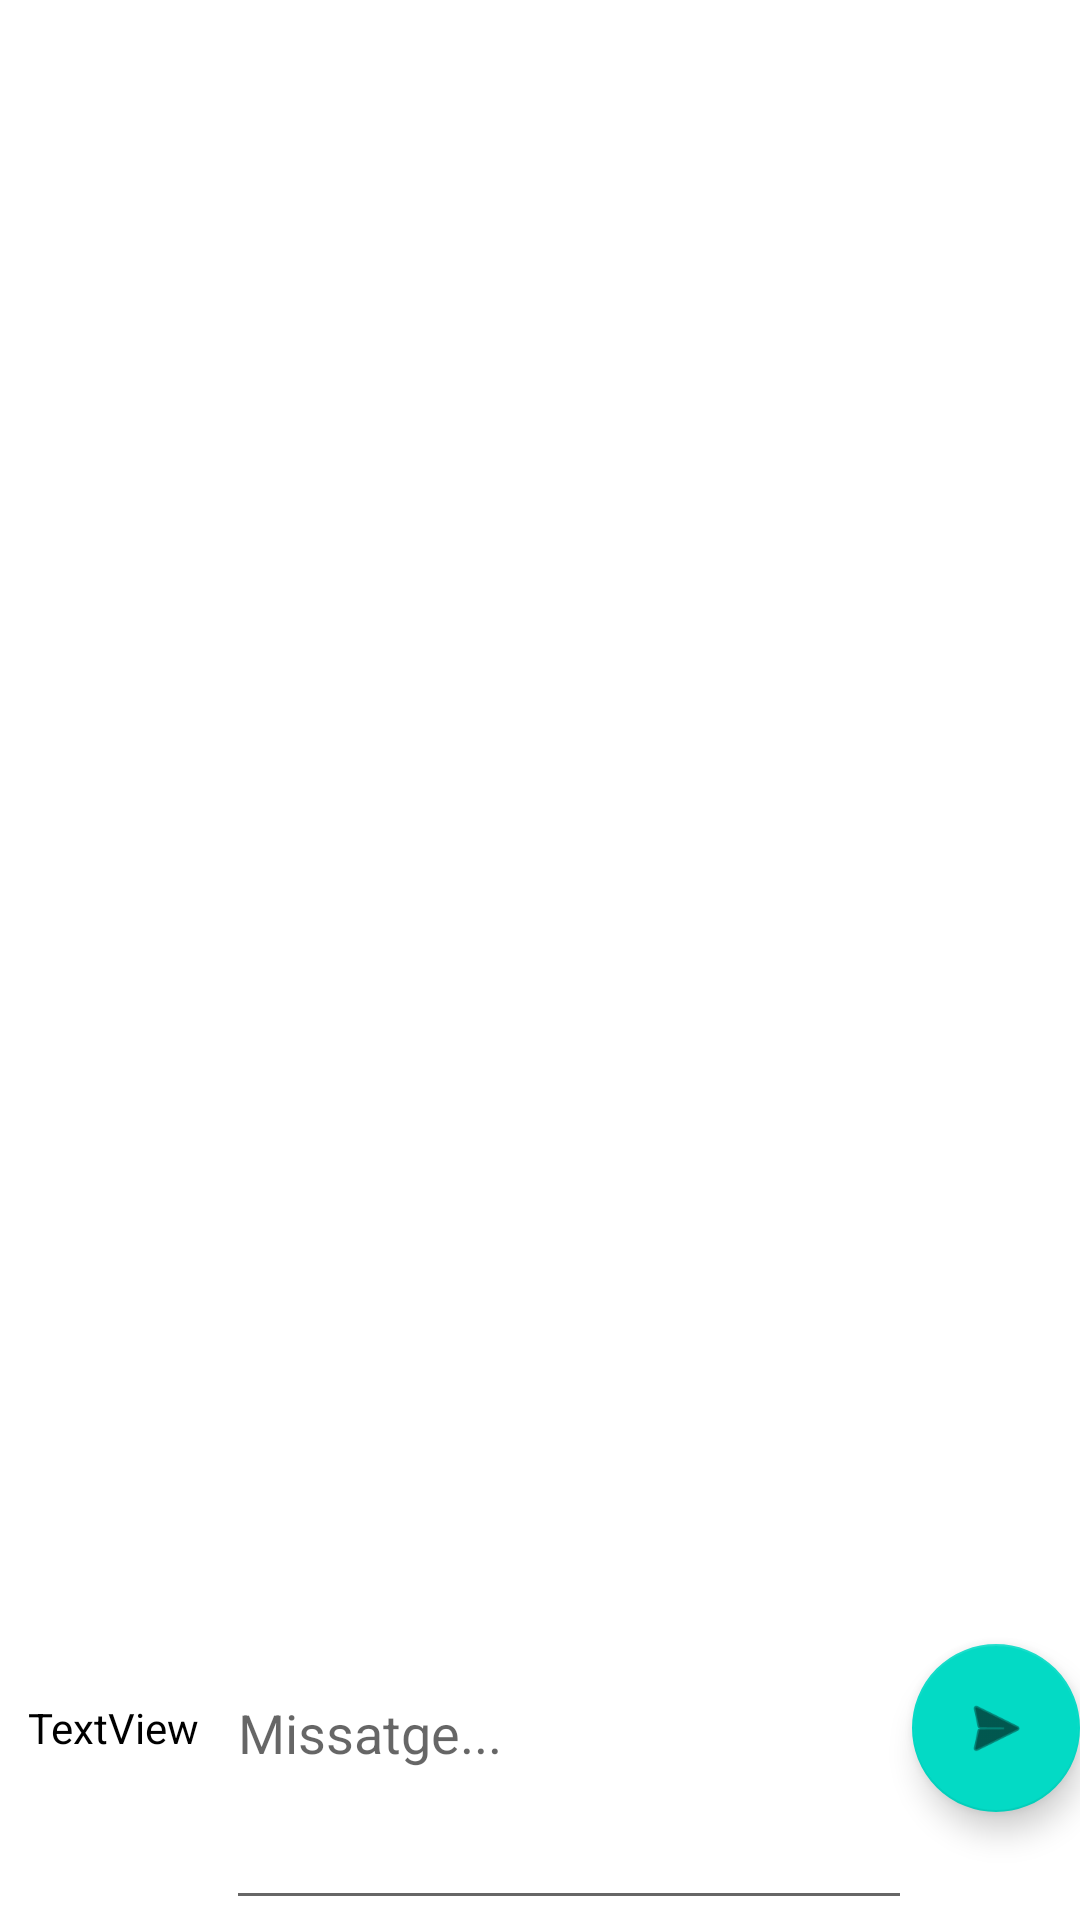

Screen size 1080*1920. Icon name, then its center in pixels as point (x, y):
send: point (996, 1728)
